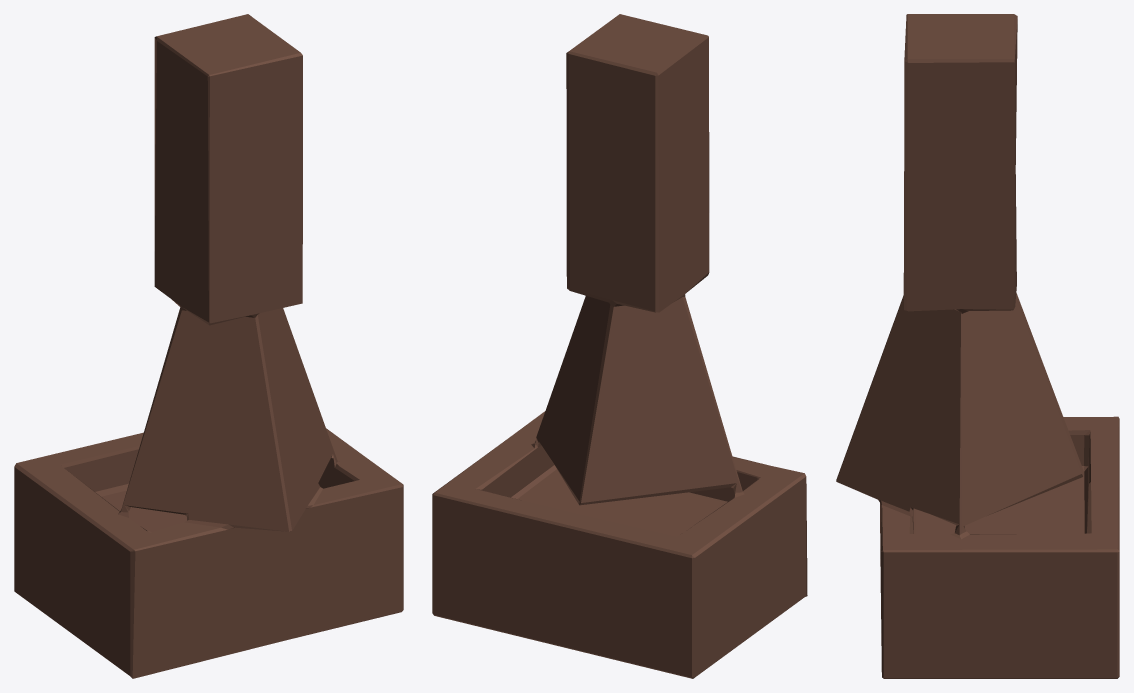
File: forge_body.fbx
3 renders of one model, left to right at view 1: azimuth 30°, elevation 25°; view 2: azimuth 150°, elevation 25°; view 3: azimuth 270°, elevation 25°, orthographic. The views are drawn at different scales.
Parts seen in each view (by area): view 1: forge_body; view 2: forge_body; view 3: forge_body.
Boxes of the visible parts, left/top/right/bottom form: forge_body: left=14, top=14, right=403, bottom=678; forge_body: left=432, top=14, right=807, bottom=678; forge_body: left=836, top=14, right=1119, bottom=678.
Bounding box in the file's own units: 800 × 1600 × 714.
